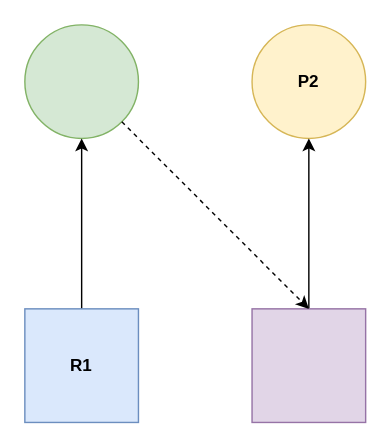
Image size: 391x447. Some labels were removed from this diagram. Each missing label, with the centre of its shape:
P1: point 80,80
R2: point 308,364
